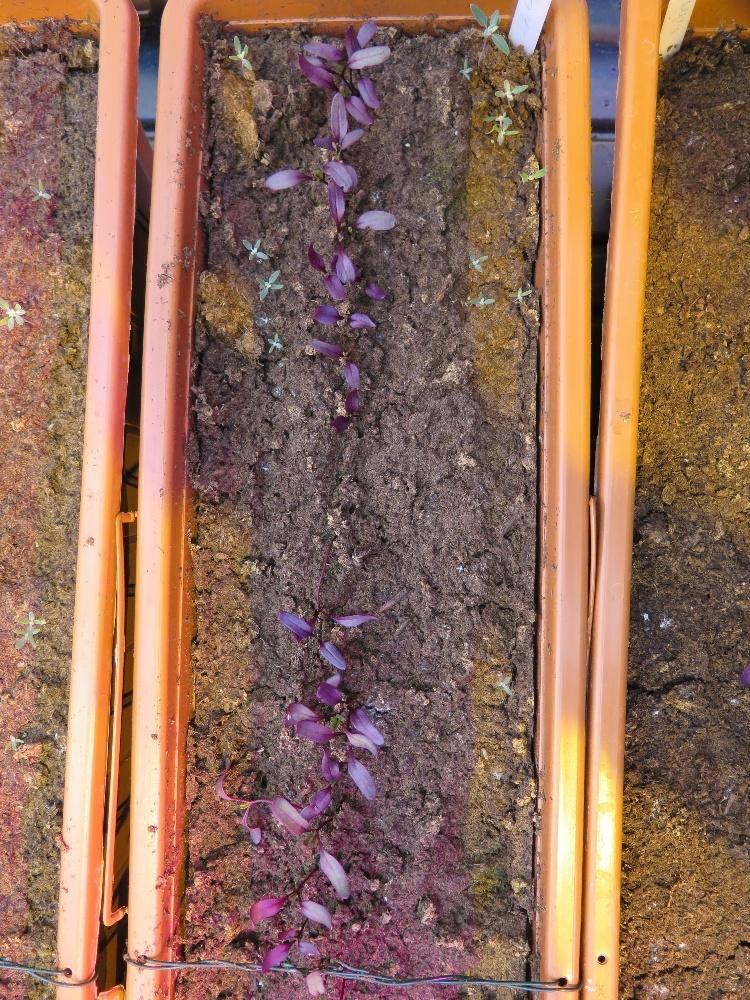weed: (468, 1, 509, 56), (226, 32, 251, 71), (492, 75, 528, 102), (254, 268, 283, 301), (240, 235, 267, 263), (517, 164, 547, 185), (466, 248, 489, 274), (27, 175, 49, 202), (507, 284, 532, 305), (469, 288, 494, 309), (3, 731, 24, 754), (494, 674, 511, 698), (457, 54, 472, 81), (266, 329, 281, 354)
